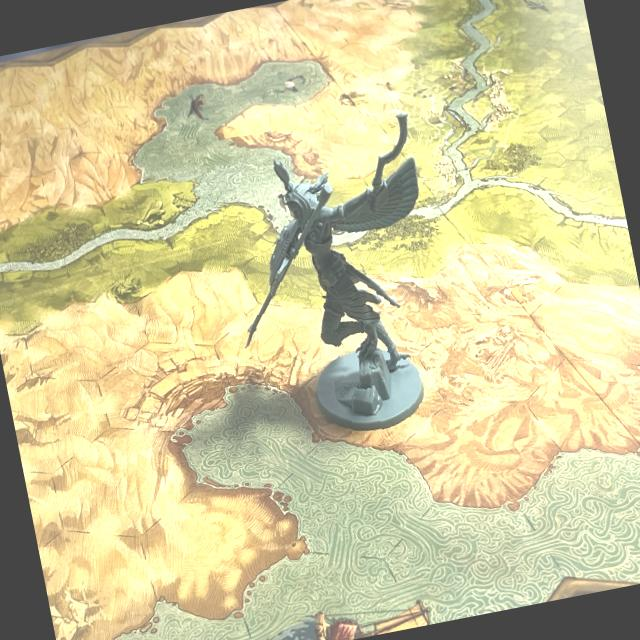isis: (203, 102, 482, 468)
